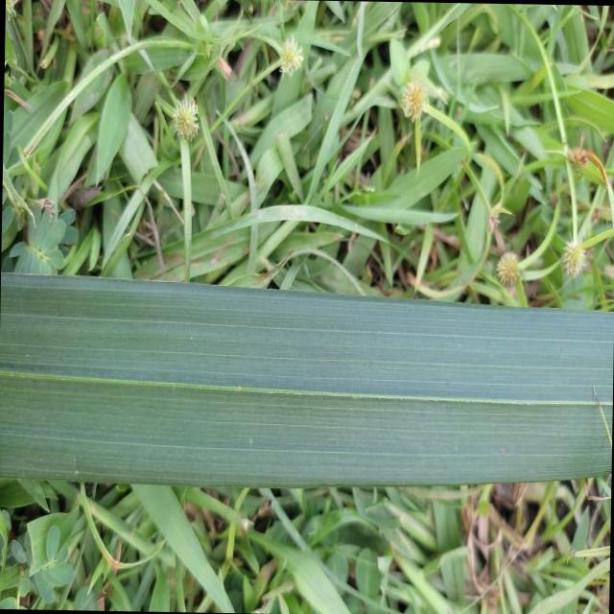Healthy: (0, 267, 614, 491)
